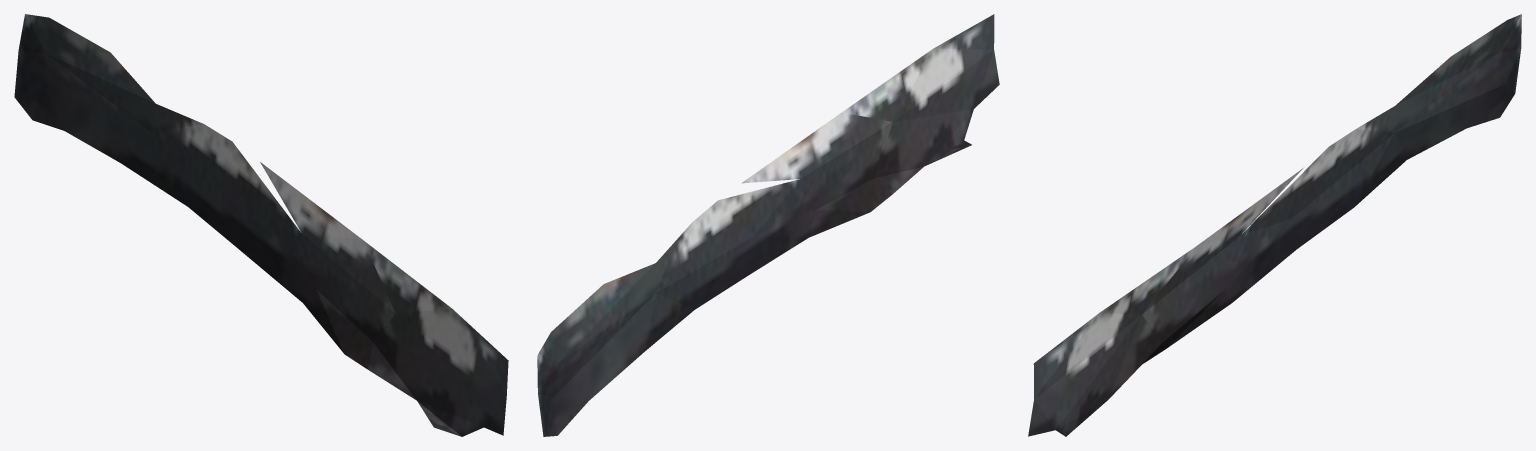
Rendered from meshes_1-dynamic - BLK2GO-3630355-Scan 080 19.obj.
3 views of the same model, side by side, from view 1: azimuth 30°, elevation 25°; view 2: azimuth 150°, elevation 25°; view 3: azimuth 330°, elevation 25° (orthographic). The views are drawn at different scales.
Parts seen in each view (by area): view 1: 1-dynamic_-_BLK2GO-3630355-Scan_080_19_0; view 2: 1-dynamic_-_BLK2GO-3630355-Scan_080_19_0; view 3: 1-dynamic_-_BLK2GO-3630355-Scan_080_19_0.
Part boxes in pixels (box(x1,y1,x2,y2)): 1-dynamic_-_BLK2GO-3630355-Scan_080_19_0: box(14, 14, 508, 436); 1-dynamic_-_BLK2GO-3630355-Scan_080_19_0: box(537, 14, 999, 436); 1-dynamic_-_BLK2GO-3630355-Scan_080_19_0: box(1028, 14, 1521, 436).
Size of the model in its own units: 0.0708 by 0.2147 by 1.68.
1 material, 1 textured.
